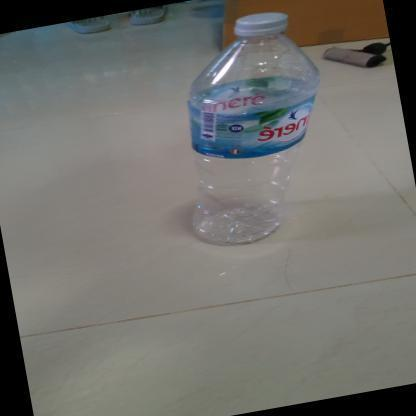plastic: (189, 13, 320, 244)
